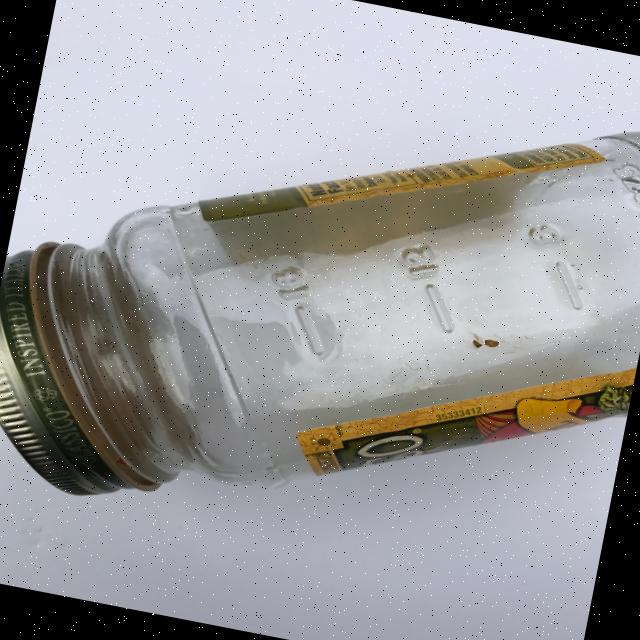glass: (0, 12, 640, 597)
